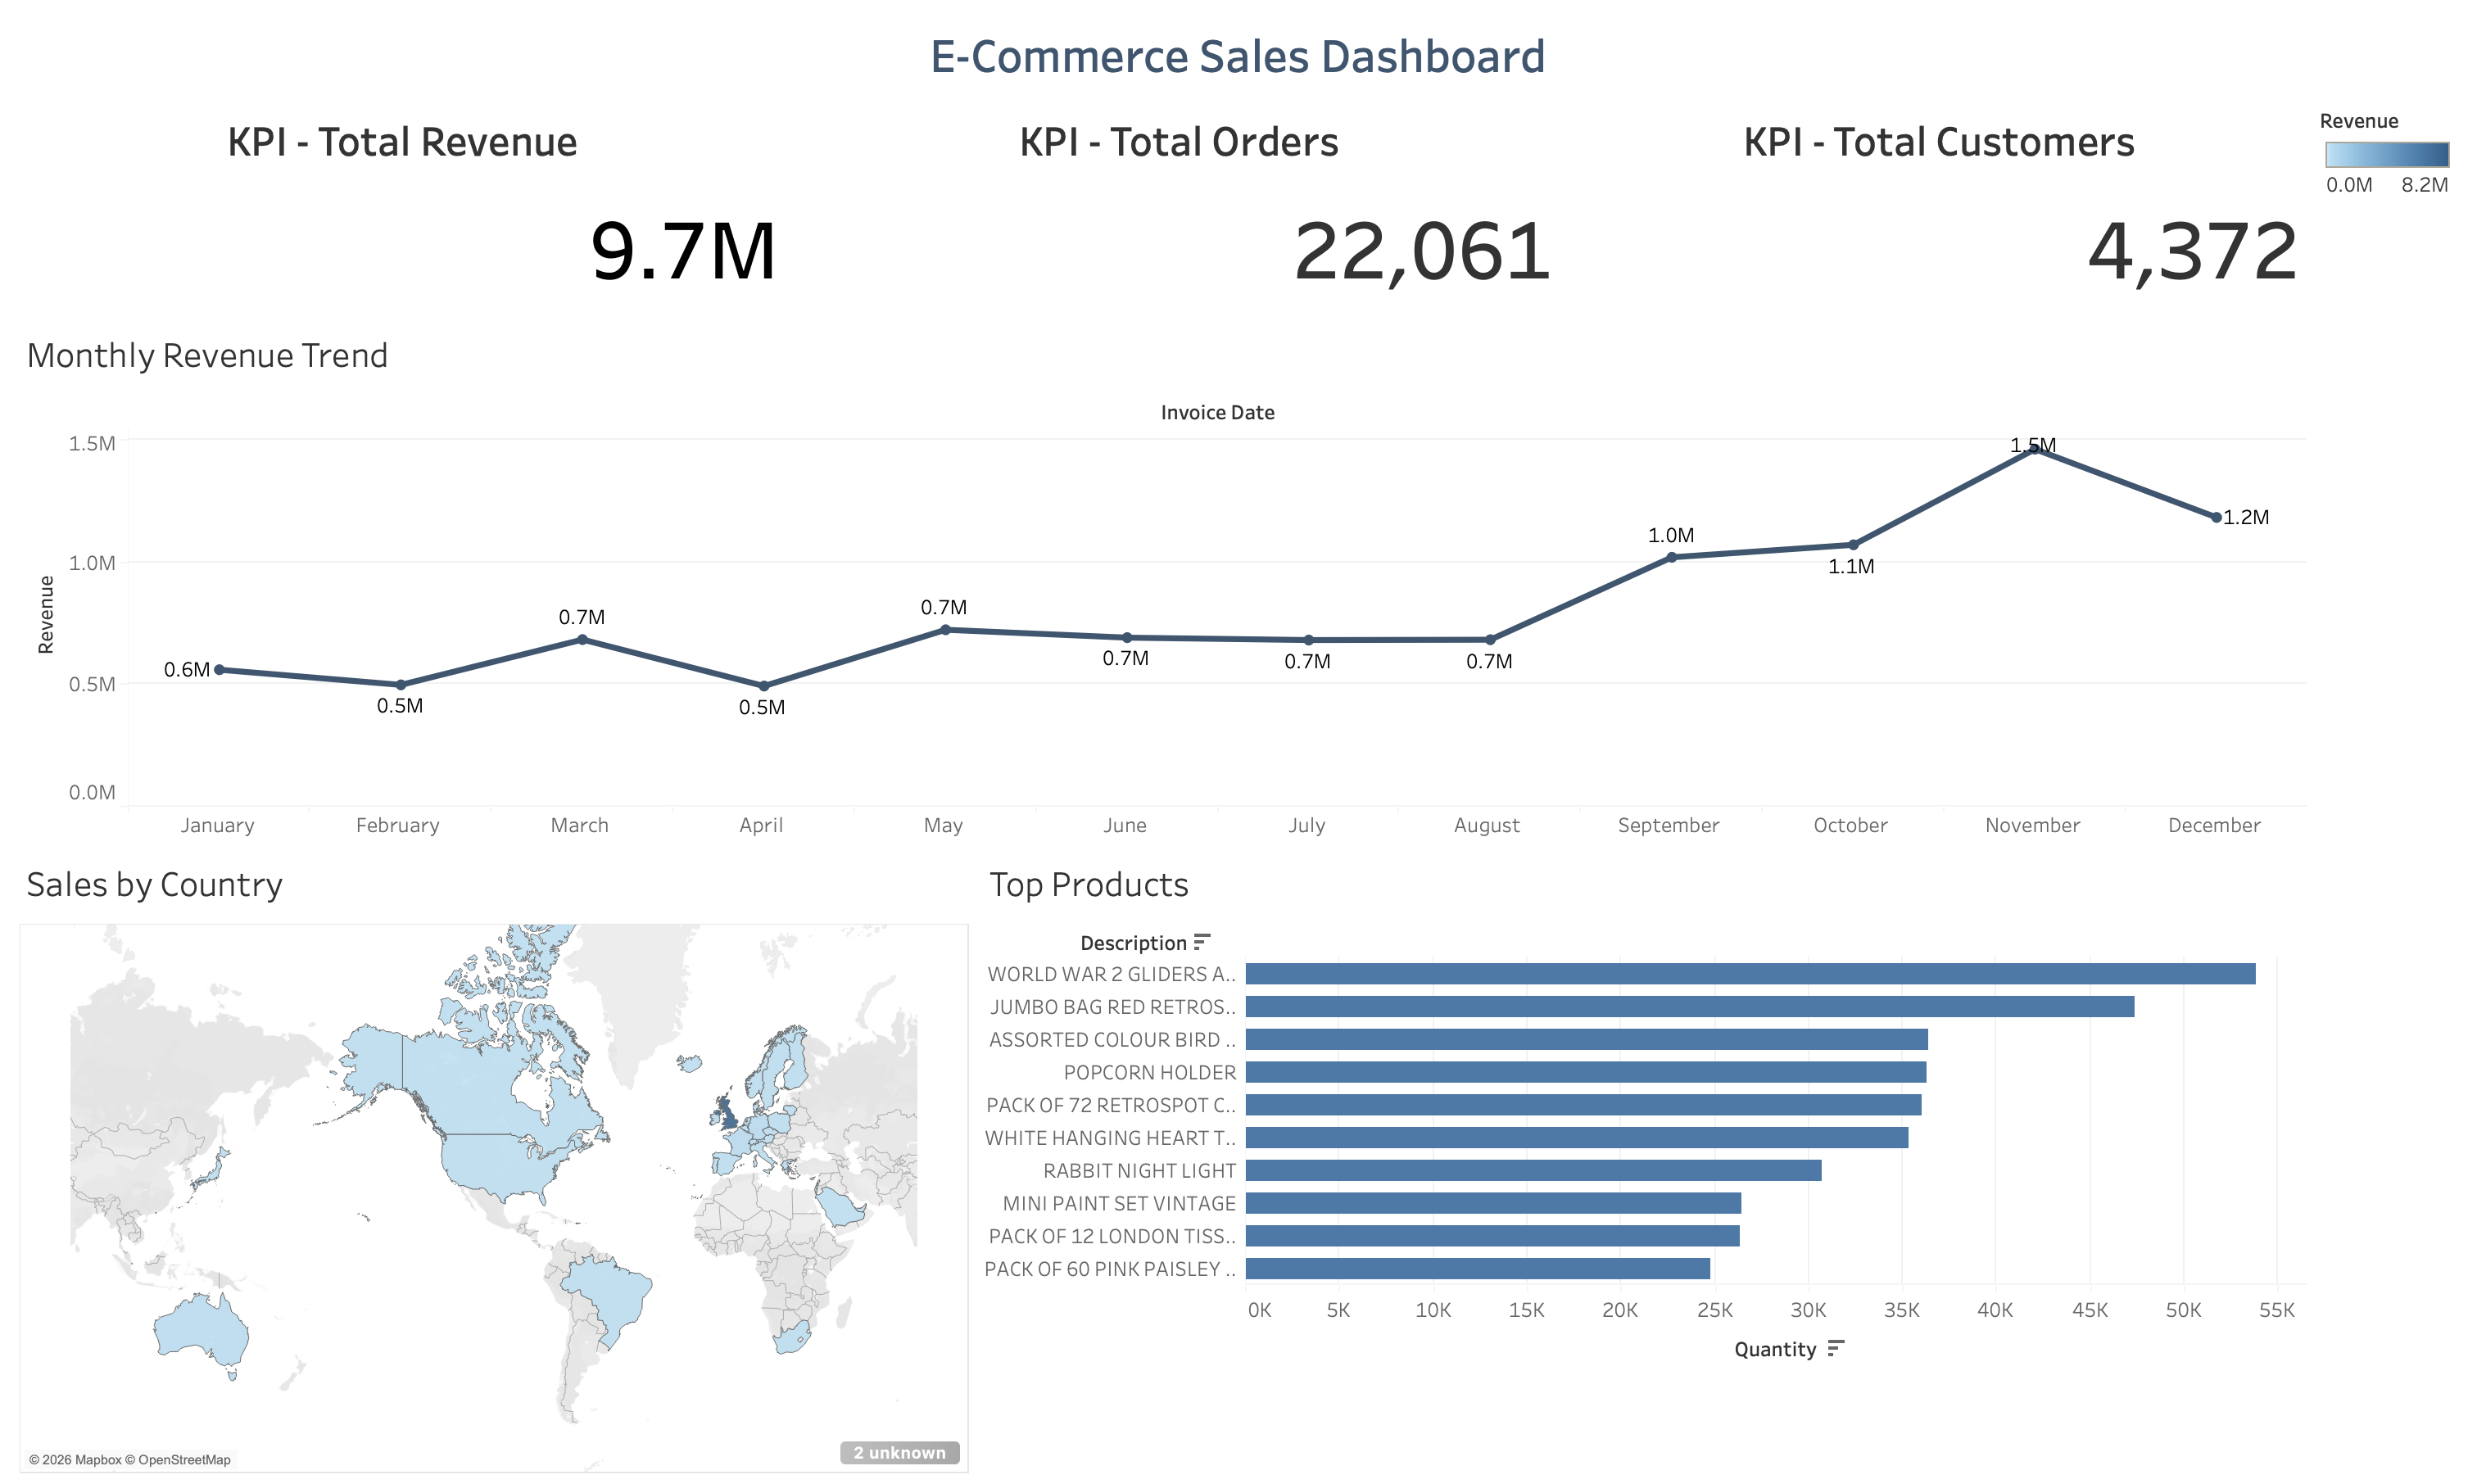

Layout of this report page (visuals, bound fields, positions):
{"tool":"tableau","page":{"name":"E-Commerce Sales Dashboard","canvas":[1000,1000],"units":"permille","ordinal":0},"visuals":[{"type":"text","box":[6.2,9.4,987.7,60.9]},{"type":"worksheet","title":"KPI - Total Revenue","mark":"Text","box":[6.2,70.3,310.9,145.3]},{"type":"worksheet","title":"KPI - Total Orders","mark":"Automatic","box":[317.1,70.3,308.1,145.3]},{"type":"worksheet","title":"KPI - Total Customers","mark":"Automatic","box":[625.2,70.3,298,145.3]},{"type":"legend","title":"Sales by Country","param":"[federated.0ub7ze71op4e0o0zp8zfc1yw23pz].[sum:Calculation_3678278700007424:qk]","box":[923.1,70.3,70.7,76.2]},{"type":"worksheet","title":"Monthly Revenue Trend","mark":"Automatic","rows":["Calculation_3678278700007424"],"cols":["InvoiceDate"],"box":[6.2,215.6,917,352.8]},{"type":"worksheet","title":"Sales by Country","mark":"Automatic","box":[6.2,568.4,384.1,422.3]},{"type":"worksheet","title":"Top Products","mark":"Automatic","rows":["Description"],"cols":["Quantity"],"box":[390.3,568.4,532.9,422.3]}]}

Visuals, with their boxes on the dashboard's canvas, which has no fixed pixel size, in thousandths of its width and height (x1, y1, x2, y2). These are canvas units, not pixel positions in the 2477x1484 screenshot, which may show the page scaled, cropped or inside an application window:
text: bbox(6, 9, 994, 70)
"KPI - Total Revenue" worksheet (Text marks): bbox(6, 70, 317, 216)
"KPI - Total Orders" worksheet: bbox(317, 70, 625, 216)
"KPI - Total Customers" worksheet: bbox(625, 70, 923, 216)
"Sales by Country" legend: bbox(923, 70, 994, 146)
"Monthly Revenue Trend" worksheet: bbox(6, 216, 923, 568)
"Sales by Country" worksheet: bbox(6, 568, 390, 991)
"Top Products" worksheet: bbox(390, 568, 923, 991)
